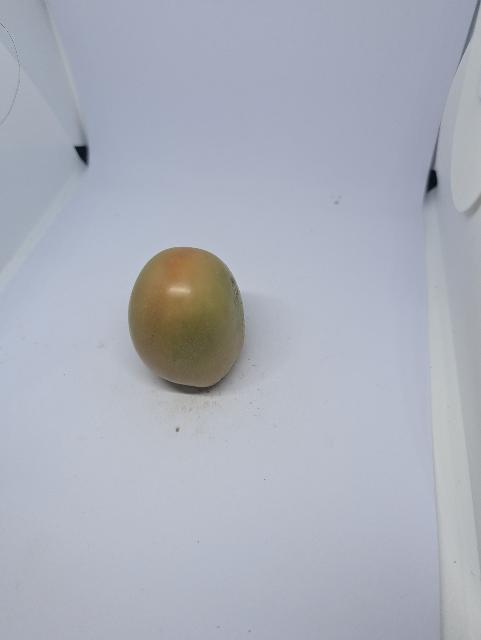breaker: (126, 242, 256, 392)
